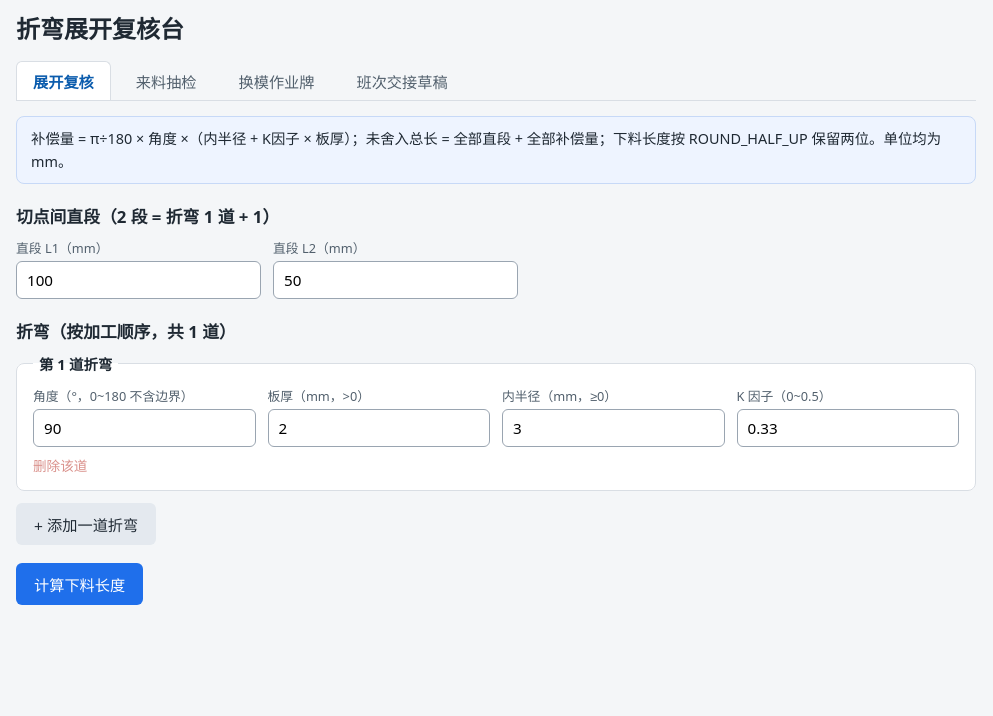
来料抽检视图 › 默认落在展开复核视图，可切换到来料抽检
This screenshot has width=993, height=716.
Expected: the button "计算下料长度" is shown, [16,563,143,605]
Expected: the field labelled "批次号" is not shown
Click the tab "来料抽检" at (166, 81), box [119,61,214,100]
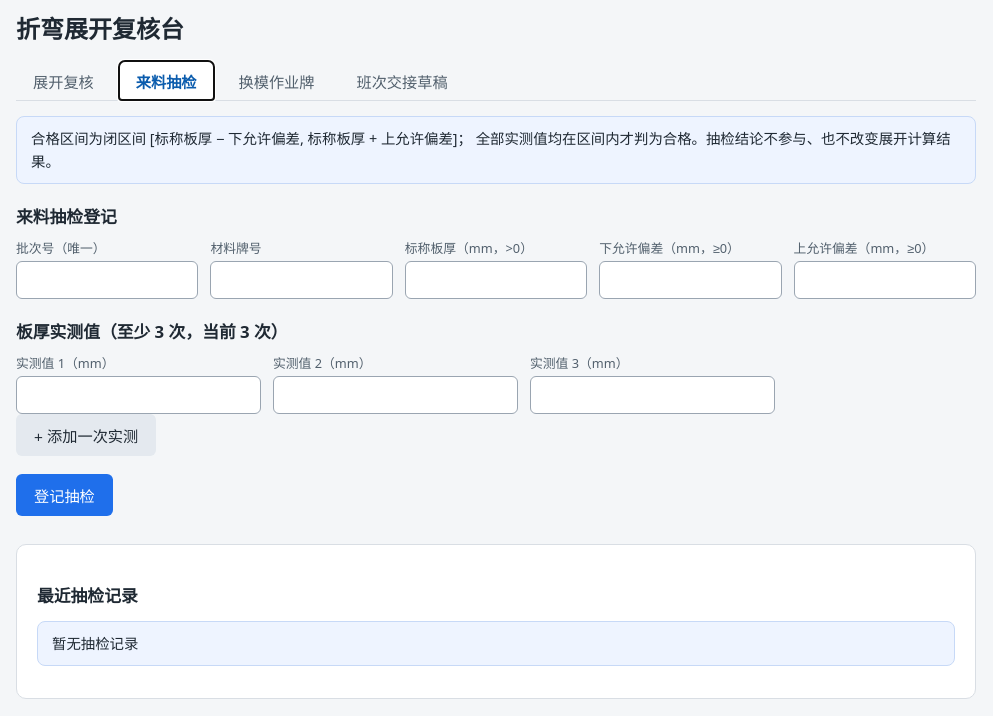
Result: the field labelled "批次号（唯一）" is shown at [16,261,198,299]
Result: the button "计算下料长度" is gone
Result: the field labelled "实测值 1（mm）" is shown at [16,376,261,414]
